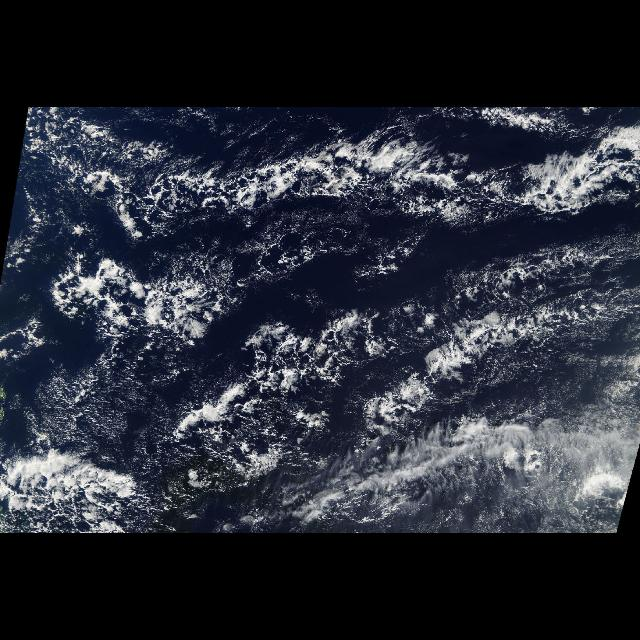Fish: (31, 240, 639, 460), (28, 107, 640, 237)
